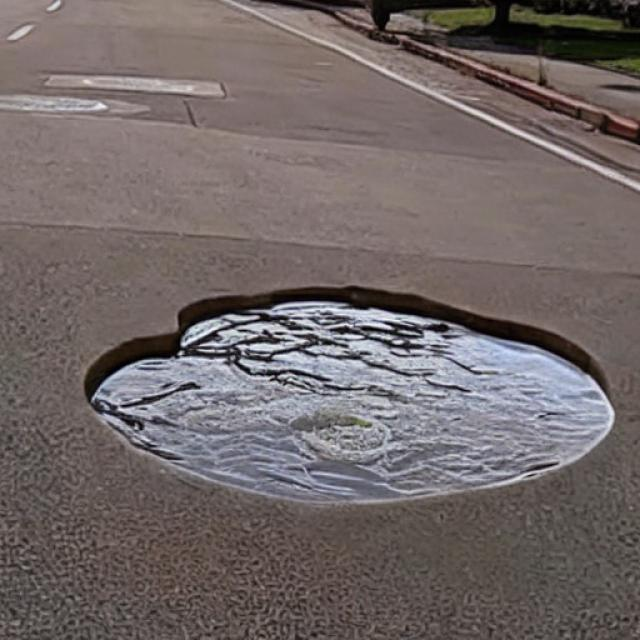puddle: (86, 285, 615, 502)
